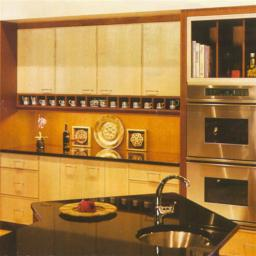Electrodomestico: (187, 101, 255, 222)
Lavaplatos: (137, 174, 213, 245)
